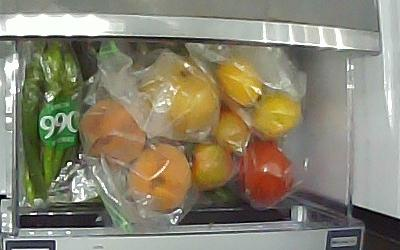peach_vinyl: (125, 141, 192, 211), (78, 96, 146, 163)
pear_vinyl: (140, 58, 219, 136)
tangerine_vinyl: (213, 52, 263, 107), (249, 88, 300, 138)
tomato_vinyl: (238, 137, 294, 203), (186, 138, 235, 188), (213, 107, 251, 154)
